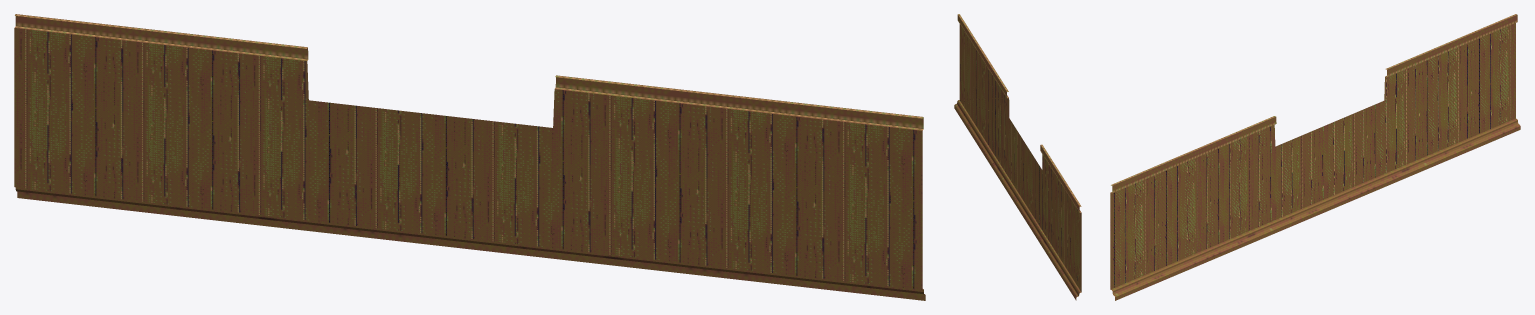
File: Pared_Ventana_Lado_01.fbx
The picture shows the model from 3 angles, left to right: view 1: azimuth 30°, elevation 25°; view 2: azimuth 150°, elevation 25°; view 3: azimuth 270°, elevation 25°; orthographic projection. The views are drawn at different scales.
Visible parts, largest first — view 1: Pared_01.041; view 2: Pared_01.041; view 3: Pared_01.041.
Boxes of the visible parts, left/top/right/bottom form: Pared_01.041: left=14, top=14, right=925, bottom=300; Pared_01.041: left=954, top=14, right=1081, bottom=300; Pared_01.041: left=1110, top=14, right=1520, bottom=300.
Size of the model in its own units: 433 by 133 by 433.
